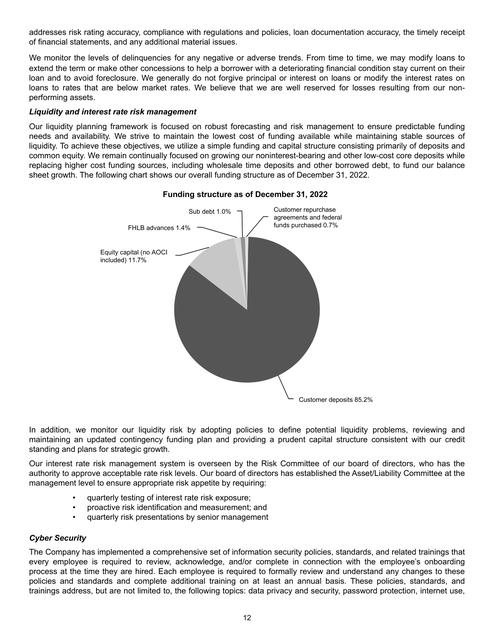box: (99, 190, 376, 406)
